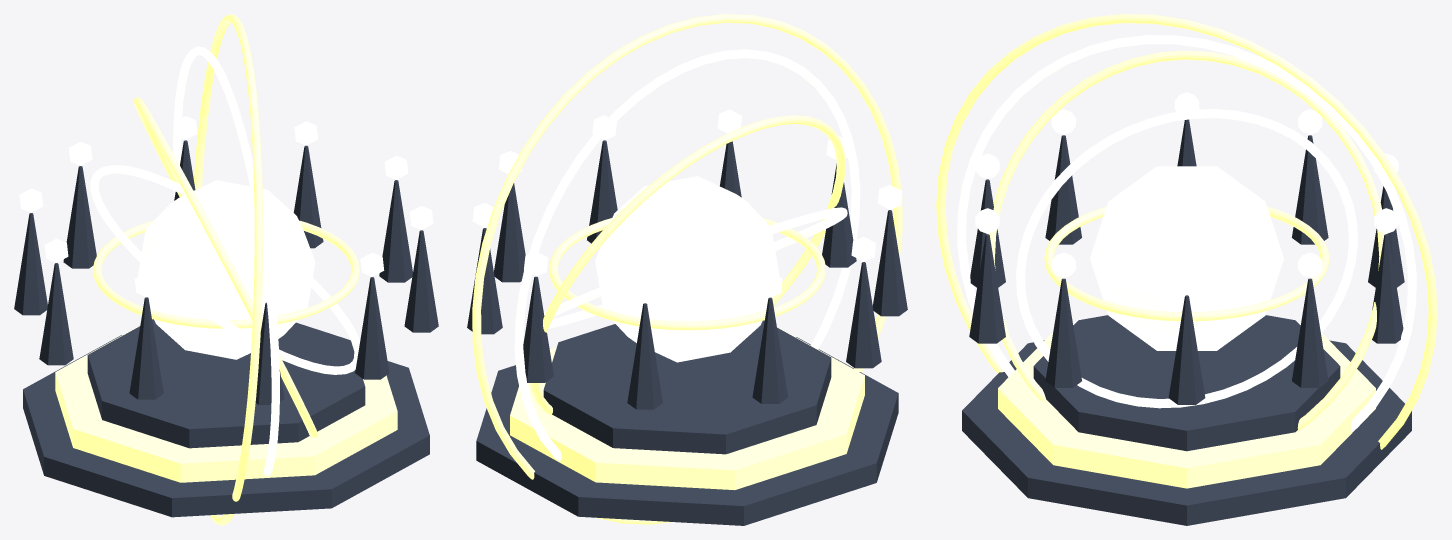
Rendered from gpu-blender-v22.glb.
The picture shows the model from 3 angles, left to right: view 1: azimuth 30°, elevation 25°; view 2: azimuth 150°, elevation 25°; view 3: azimuth 270°, elevation 25°; orthographic projection. The views are drawn at different scales.
Visible parts, largest first — view 1: Cylinder.002, Cylinder, SovereignCore_mcp-lens, Cylinder.001, Torus.004, Torus.003, Torus.001, Torus, Torus.002, Cone.004, Cone.008, Cone.005 (+6 smaller); view 2: Cylinder.002, SovereignCore_mcp-lens, Cylinder, Cylinder.001, Torus.004, Torus.003, Torus.002, Torus, Torus.001, Cone.005, Cone.003, Cone.006 (+7 smaller); view 3: SovereignCore_mcp-lens, Cylinder.002, Cylinder, Cylinder.001, Torus.004, Torus.003, Torus.001, Torus.002, Torus, Cone, Cone.008, Cone.001 (+7 smaller).
Part boxes in pixels (x1,y1,x2,y2): Cylinder.002: (87,319,365,448); Cylinder: (23,335,429,517); SovereignCore_mcp-lens: (137,180,315,359); Cylinder.001: (55,326,397,482); Torus.004: (194,14,263,525); Torus.003: (173,46,279,475); Torus.001: (90,165,360,374); Torus: (93,220,359,328); Torus.002: (133,97,318,437); Cone.004: (14,213,47,315); Cone.008: (355,277,389,379); Cone.005: (39,263,73,365); Cylinder.002: (543,320,831,454); SovereignCore_mcp-lens: (595,176,779,362); Cylinder: (476,337,898,525); Cylinder.001: (510,328,864,490); Torus.004: (472,14,902,524); Torus.003: (514,49,860,461); Torus.002: (530,115,845,415); Torus: (549,218,825,330); Torus.001: (544,207,847,328); Cone.005: (846,262,881,368); Cone.003: (627,303,662,409); Cone.006: (873,210,907,316); SovereignCore_mcp-lens: (1090,166,1283,350); Cylinder.002: (1033,315,1340,451); Cylinder: (962,340,1411,525); Cylinder.001: (998,332,1375,488); Torus.004: (936,14,1437,449); Torus.003: (957,35,1416,432); Torus.001: (1016,109,1357,408); Torus.002: (988,50,1385,431); Torus: (1044,206,1329,321); Cone: (1168,295,1205,404); Cone.008: (969,234,1005,343); Cone.001: (1292,278,1328,387).
Size of the model in its own units: 4.41 by 5.33 by 4.9.
